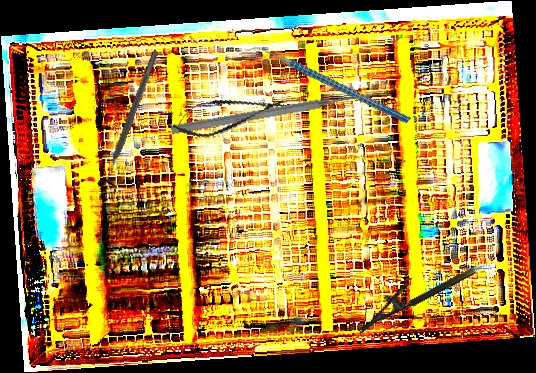Chopper: (243, 1, 412, 170)
Fixation Ring: (95, 46, 167, 194)
Micro Scissor: (169, 85, 288, 144)
Needle Holder: (348, 251, 477, 335)
Pusher: (170, 88, 375, 137)
